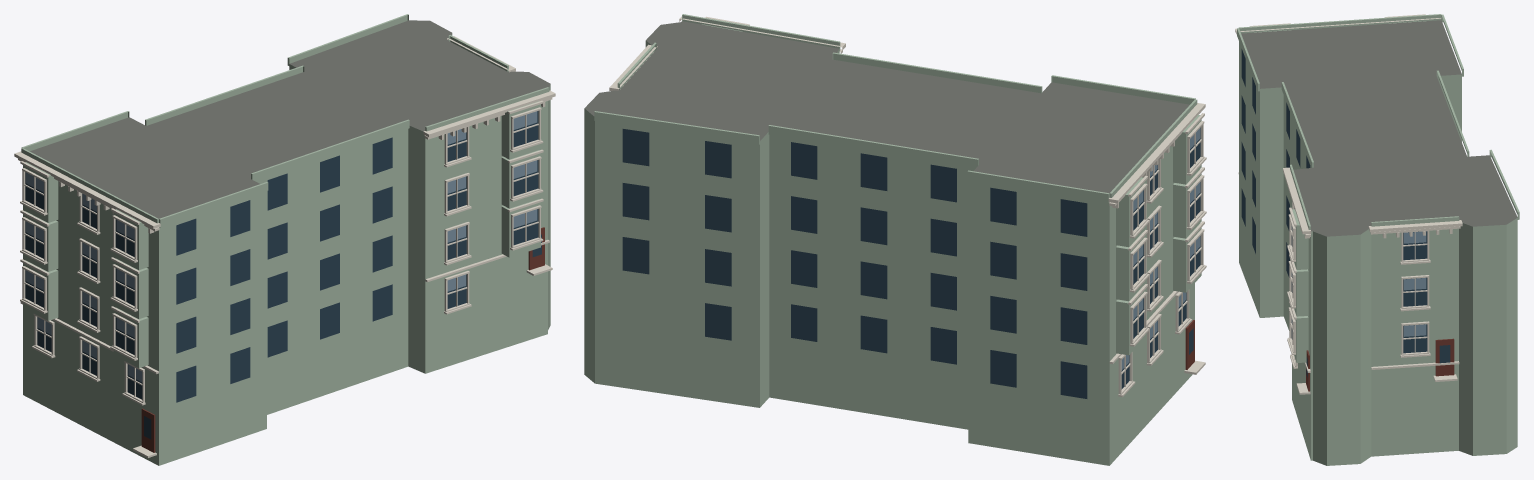
3 renders of one model, left to right at view 1: azimuth 30°, elevation 25°; view 2: azimuth 150°, elevation 25°; view 3: azimuth 270°, elevation 25°, orthographic. The views are drawn at different scales.
Visible parts, largest first — view 1: Footprint 0 / surface 2, Footprint 0 / surface 1, Inset glazing, Cornices and window frames, Facade bay volumes, Sky reflection panels, Storefronts and doors; view 2: Footprint 0 / surface 2, Footprint 0 / surface 1, Inset glazing, Facade bay volumes, Cornices and window frames, Sky reflection panels; view 3: Footprint 0 / surface 2, Footprint 0 / surface 1, Facade bay volumes, Cornices and window frames, Inset glazing, Sky reflection panels, Storefronts and doors.
Boxes of the visible parts, x1,y1,x2,y2 form: Footprint 0 / surface 2: [23, 33, 550, 465]; Footprint 0 / surface 1: [30, 20, 550, 218]; Inset glazing: [25, 111, 541, 439]; Cornices and window frames: [14, 36, 555, 457]; Facade bay volumes: [21, 14, 549, 367]; Sky reflection panels: [26, 111, 537, 382]; Storefronts and doors: [141, 227, 544, 452]; Footprint 0 / surface 2: [584, 41, 1194, 465]; Footprint 0 / surface 1: [584, 21, 1189, 193]; Inset glazing: [622, 127, 1200, 398]; Facade bay volumes: [594, 14, 1201, 355]; Cornices and window frames: [609, 16, 1206, 397]; Sky reflection panels: [1121, 128, 1200, 370]; Footprint 0 / surface 2: [1239, 42, 1517, 465]; Footprint 0 / surface 1: [1241, 20, 1517, 236]; Facade bay volumes: [1237, 14, 1519, 362]; Cornices and window frames: [1235, 14, 1462, 394]; Inset glazing: [1241, 49, 1450, 377]; Sky reflection panels: [1291, 226, 1426, 336]; Storefronts and doors: [1306, 338, 1454, 391].
Size of the model in its own units: 31.3 by 15.39 by 16.92.
